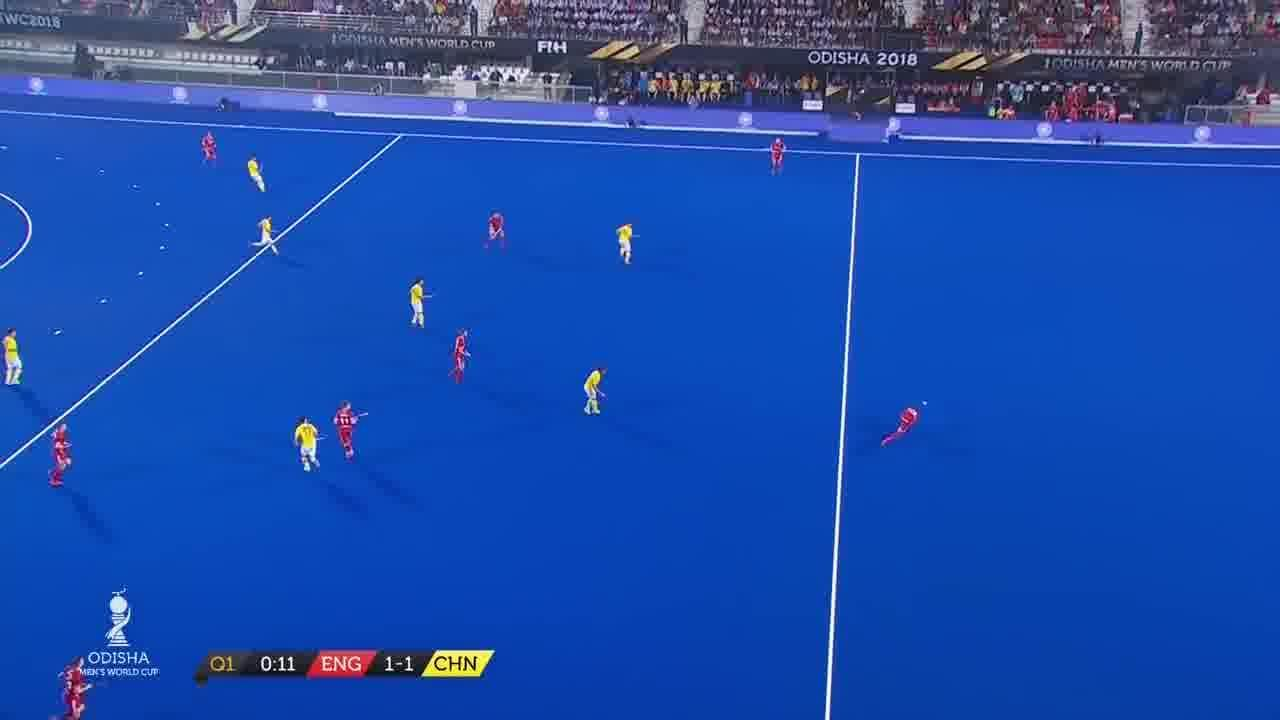ball: (920, 396, 930, 412)
